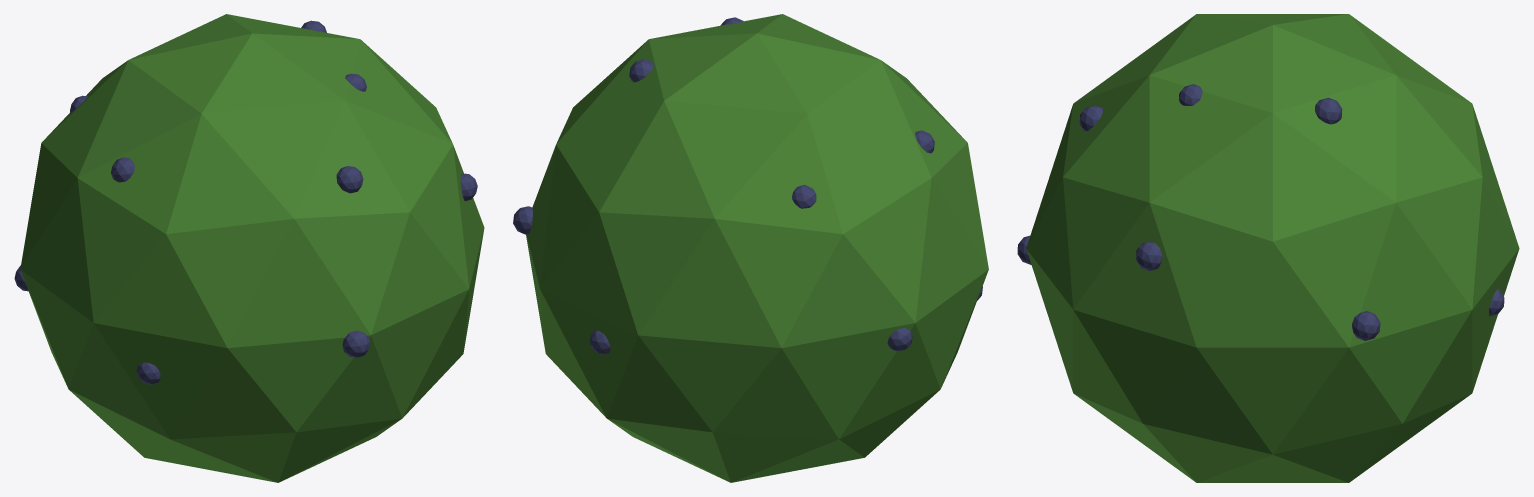
Rendered from berry_bush.glb.
3 views of the same model, side by side, from view 1: azimuth 30°, elevation 25°; view 2: azimuth 150°, elevation 25°; view 3: azimuth 270°, elevation 25° (orthographic). The views are drawn at different scales.
Parts seen in each view (by area): view 1: Bush, Berry_I, Berry_B; view 2: Bush; view 3: Bush, Berry_G, Berry_E, Berry_J.
Part boxes in pixels (x1,y1,x2,y2): Bush: (20,14,484,482); Berry_I: (342,330,370,357); Berry_B: (336,166,363,193); Bush: (526,14,988,482); Bush: (1026,14,1519,482); Berry_G: (1352,311,1380,340); Berry_E: (1136,242,1162,270); Berry_J: (1315,97,1342,124).
Bounding box in the file's own units: 0.9435 × 0.9869 × 1.
